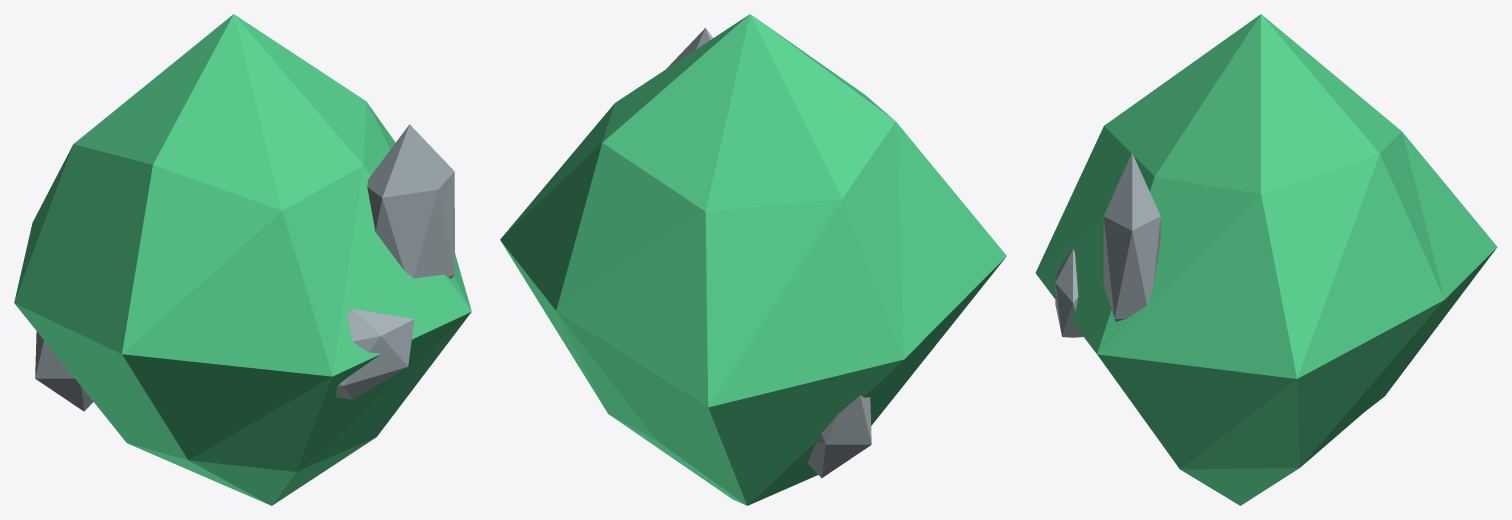
The model's file is collectable-dust.glb.
3 views of the same model, side by side, from view 1: azimuth 30°, elevation 25°; view 2: azimuth 150°, elevation 25°; view 3: azimuth 270°, elevation 25° (orthographic). The views are drawn at different scales.
Visible parts, largest first — view 1: collectable dust; view 2: collectable dust; view 3: collectable dust.
Boxes of the visible parts, box(x1,y1,x2,y2) form: collectable dust: box(14, 14, 471, 505); collectable dust: box(500, 14, 1006, 505); collectable dust: box(1035, 14, 1497, 505).
Bounding box in the file's own units: 1.8 × 2.05 × 1.79.
